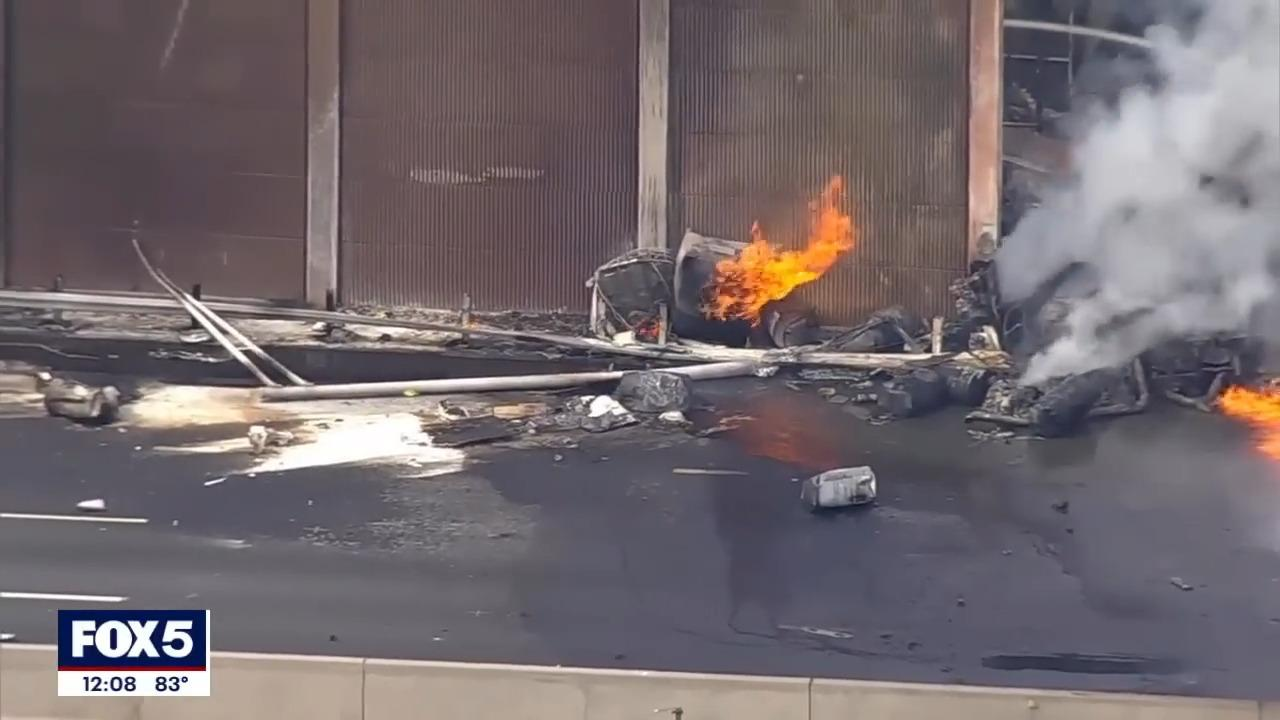fire: (714, 171, 873, 323)
